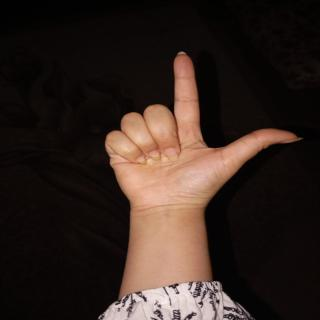LAAM: (94, 43, 307, 220)
